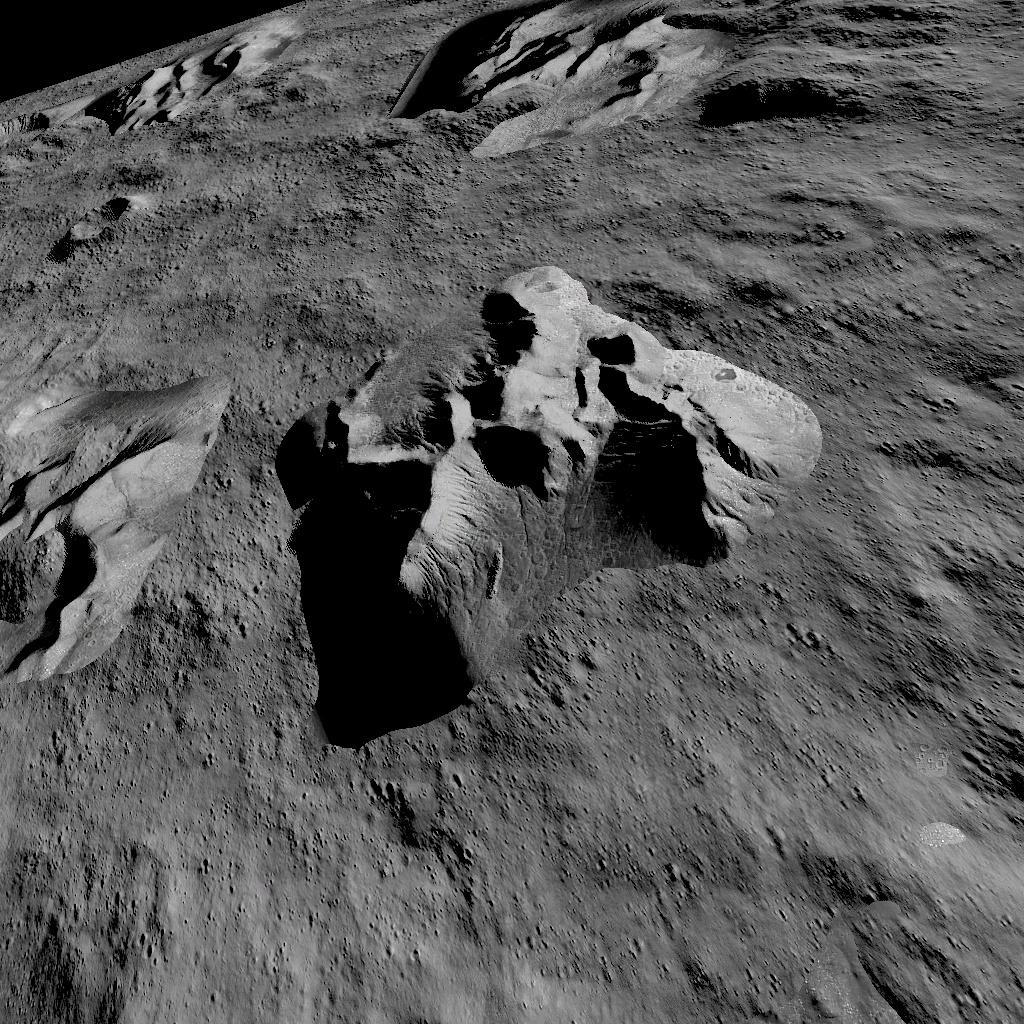Boulders: (277, 262, 822, 752), (398, 0, 884, 152), (0, 378, 228, 688), (84, 18, 260, 136)
Crater: (48, 190, 136, 264), (0, 106, 78, 166), (272, 74, 321, 112)
Plan surface: (12, 764, 986, 1024), (841, 258, 1024, 732), (188, 164, 1020, 246), (2, 276, 258, 362), (900, 0, 1024, 157)
